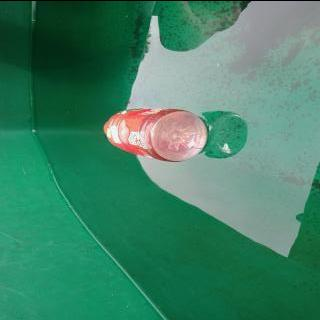bottle: (103, 107, 209, 161)
